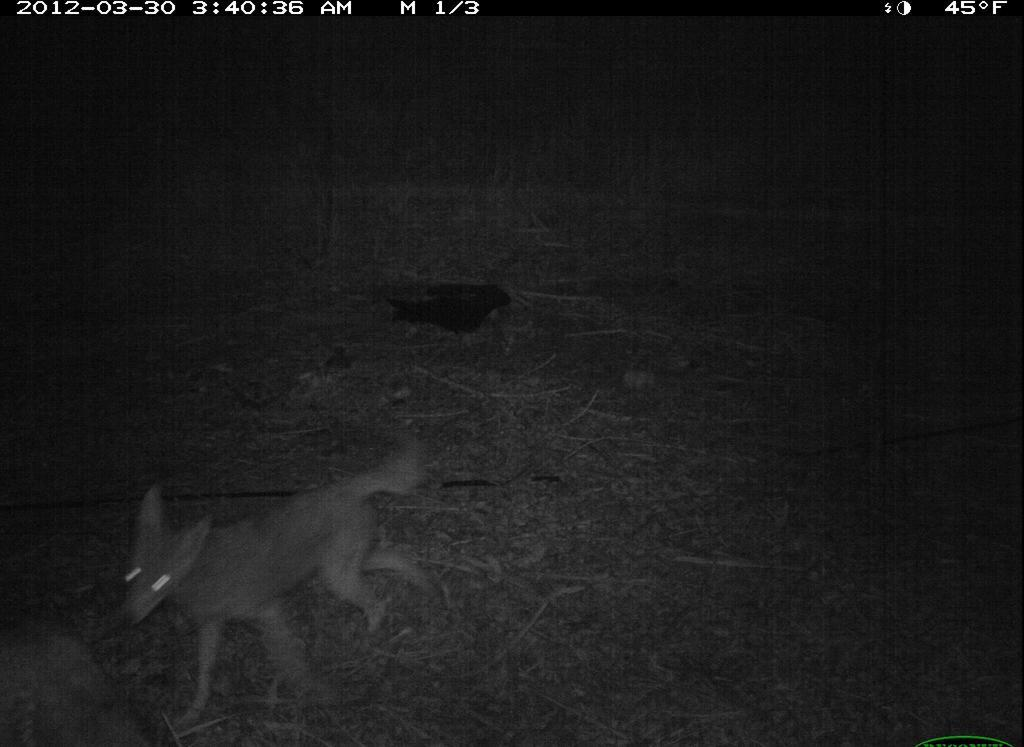coyote: (109, 425, 454, 742)
